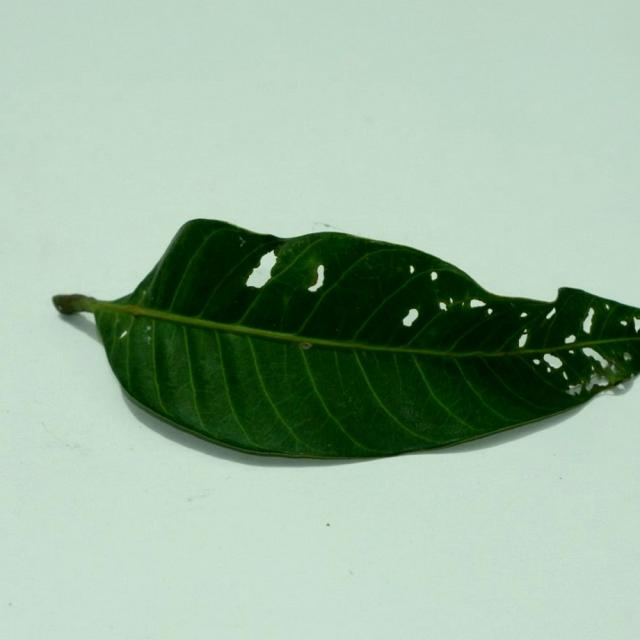Anthracnose: (563, 322, 630, 384), (57, 306, 101, 338), (249, 251, 277, 285), (310, 264, 328, 299), (306, 264, 326, 292), (580, 307, 595, 334), (542, 353, 562, 370), (401, 308, 419, 326), (467, 299, 486, 310), (518, 332, 529, 348), (563, 334, 576, 345), (429, 271, 439, 283), (300, 341, 312, 350), (119, 330, 128, 339), (439, 302, 448, 311)
Mango: (52, 220, 639, 468)
